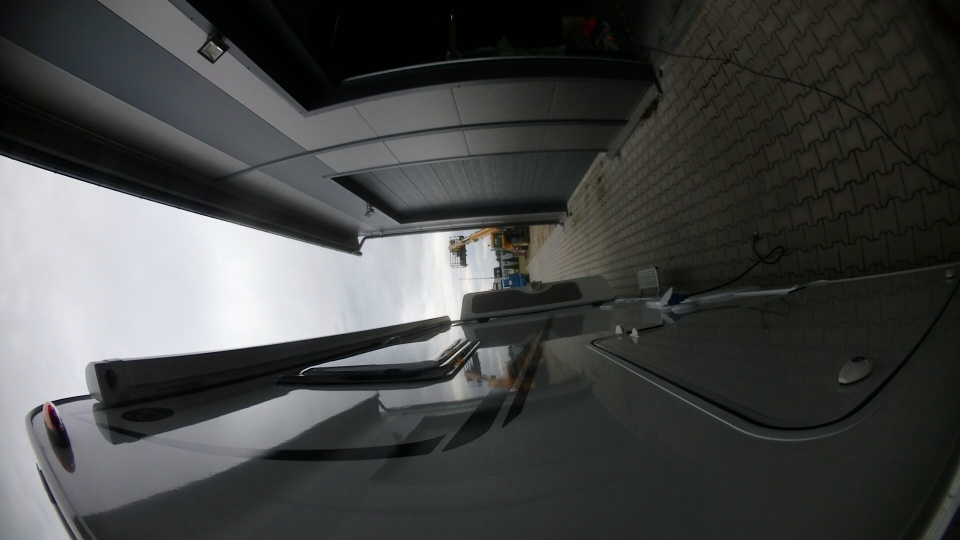door_back: (455, 268, 616, 324)
step_back: (632, 261, 667, 299)
